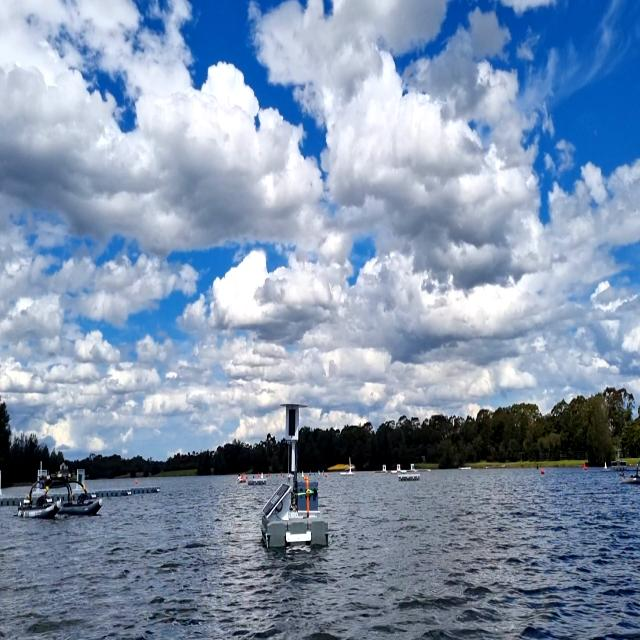led: (287, 407, 297, 440)
